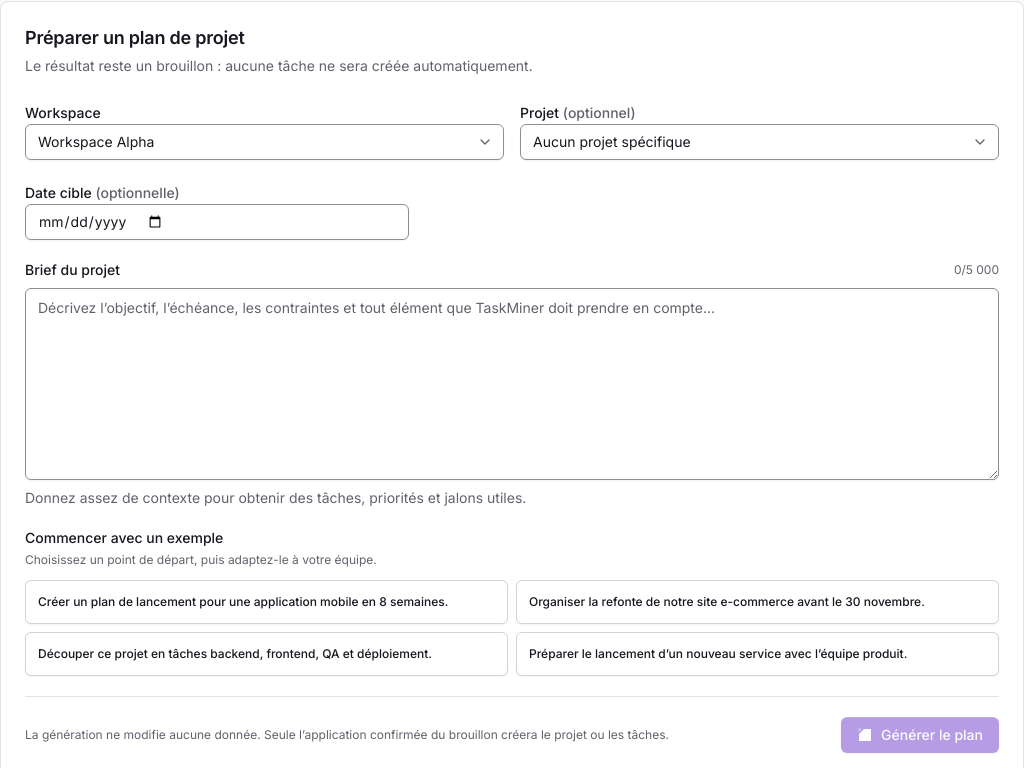
Scenario: AIPage › shows an accessible loading state and prevents repeated submission
(page scrolled)
Type "Prepare a structured customer onboarding project plan." into the text box labelled "Brief du projet".
click(512, 384); type("Prepare a structured customer onboarding project plan.")  # box [25,288,999,480]
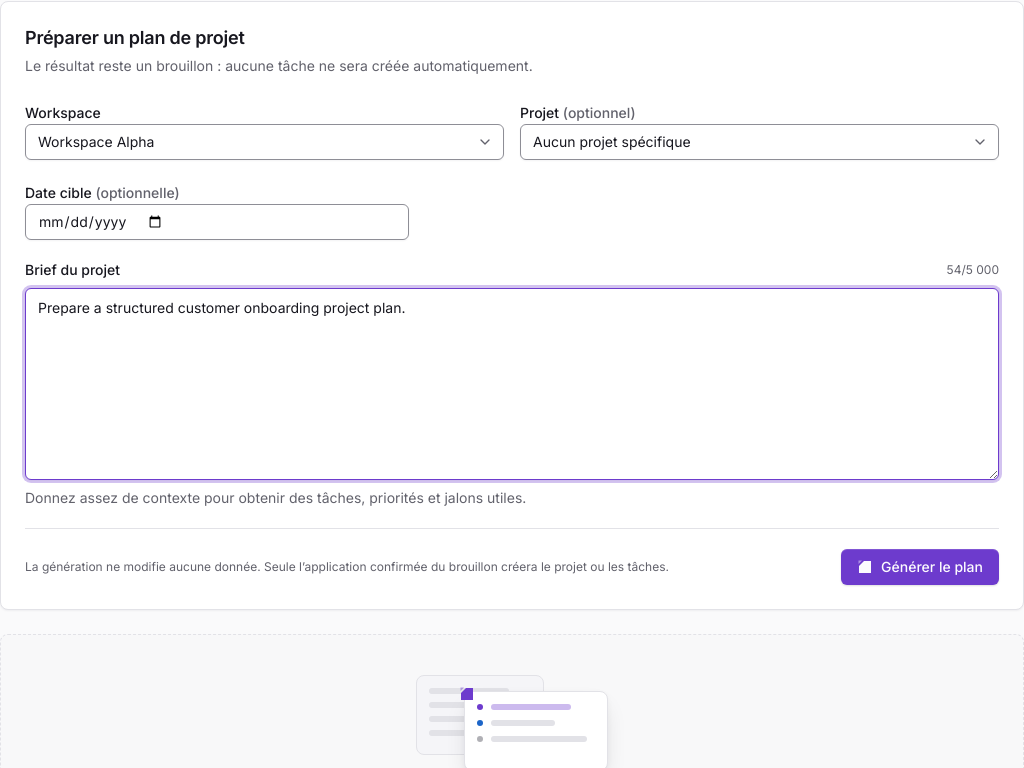
Click the button "Générer le plan".
click(920, 567)  # box [841,549,999,585]
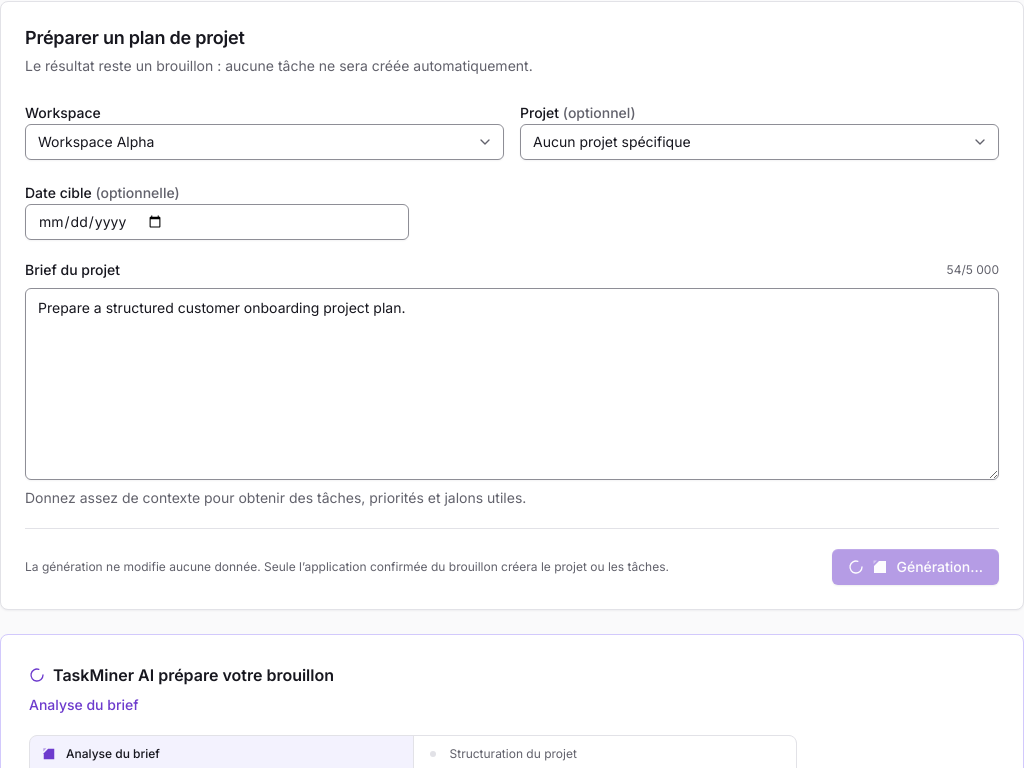
Result: the button "Génération…" is disabled at [832,549,999,585]
Result: the heading "TaskMiner AI prépare votre brouillon" is shown at [53,663,334,687]
